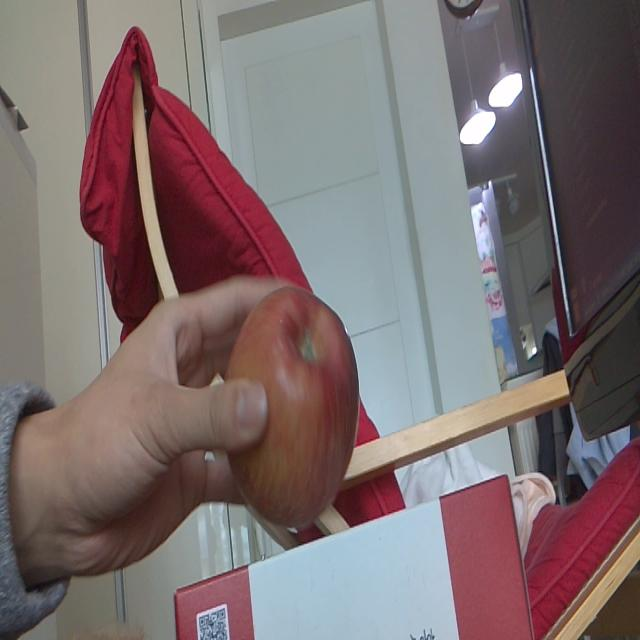apple: (225, 283, 362, 528)
